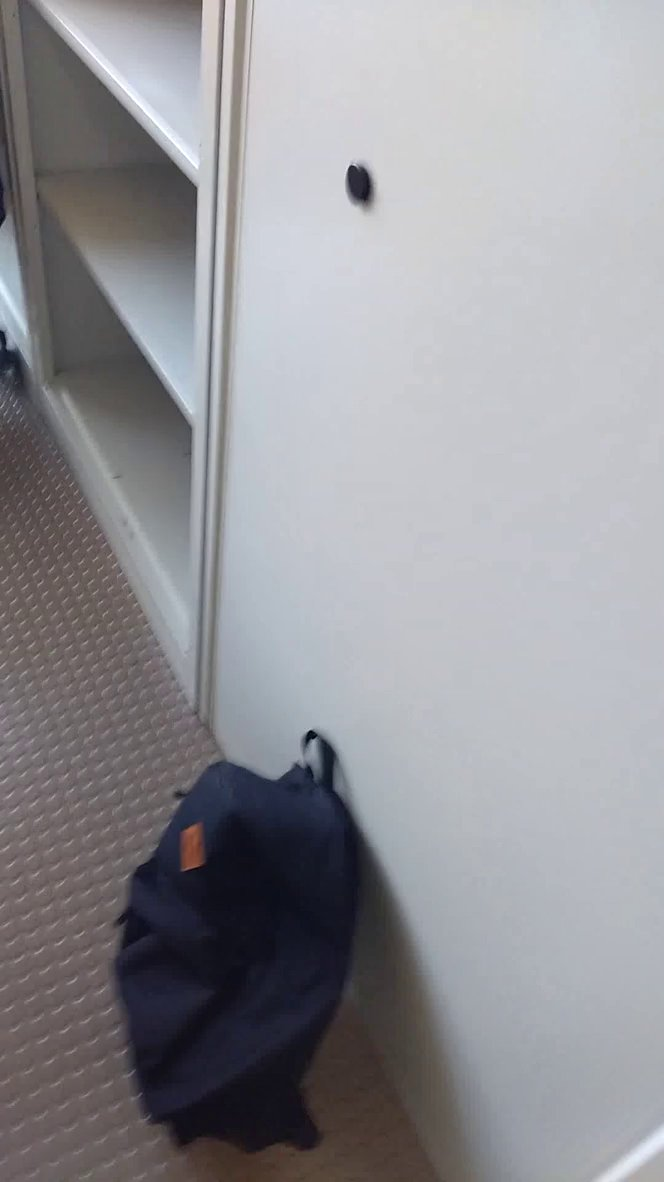bag: (97, 719, 412, 1167)
